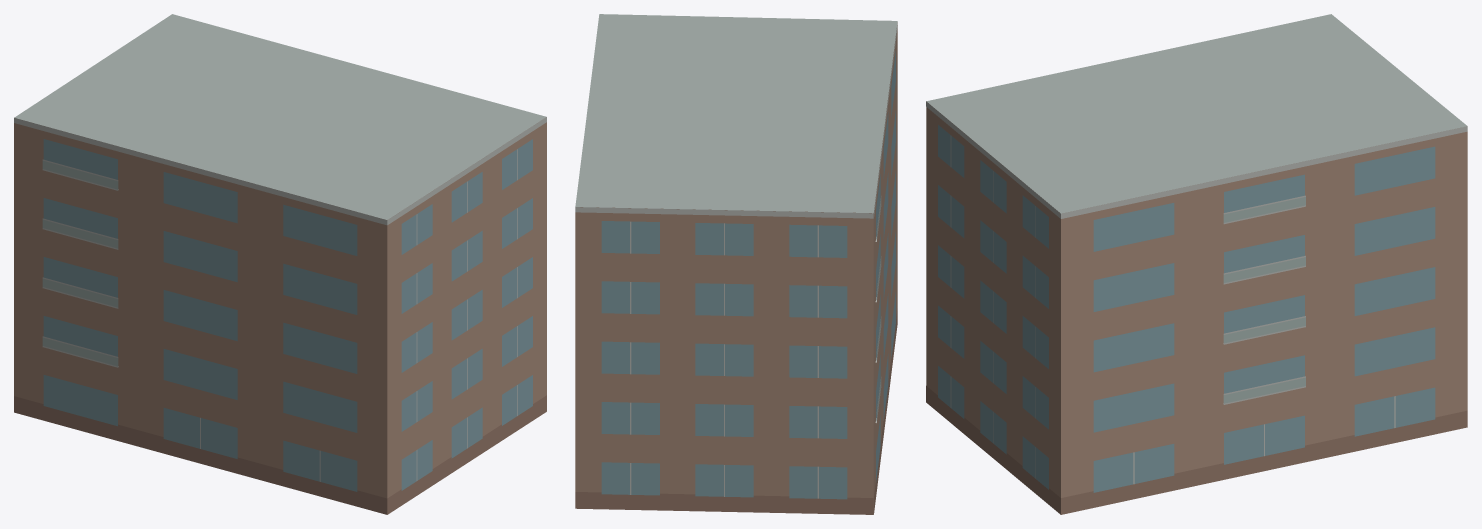
Rendered from survey-upis-32836745.glb.
3 views of the same model, side by side, from view 1: azimuth 30°, elevation 25°; view 2: azimuth 150°, elevation 25°; view 3: azimuth 270°, elevation 25° (orthographic). The views are drawn at different scales.
Parts seen in each view (by area): view 1: survey-upis-32836745.tmp; view 2: survey-upis-32836745.tmp; view 3: survey-upis-32836745.tmp.
Part boxes in pixels (<box>): survey-upis-32836745.tmp: <box>14,14,546,514</box>; survey-upis-32836745.tmp: <box>575,14,897,514</box>; survey-upis-32836745.tmp: <box>926,14,1467,514</box>.
Bounding box in the file's own units: 19.34 × 13.6 × 22.17.
